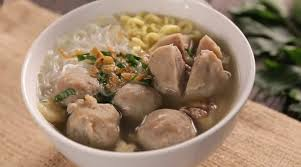bakso: (41, 42, 240, 153)
